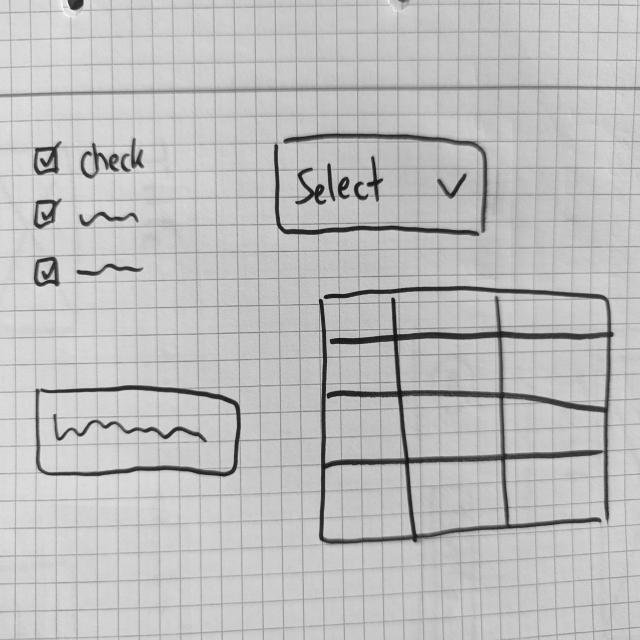checkbox: (32, 138, 150, 181), (33, 194, 146, 237), (33, 255, 147, 290)
input: (34, 382, 245, 481)
select: (271, 134, 492, 241)
table: (318, 285, 615, 548)
